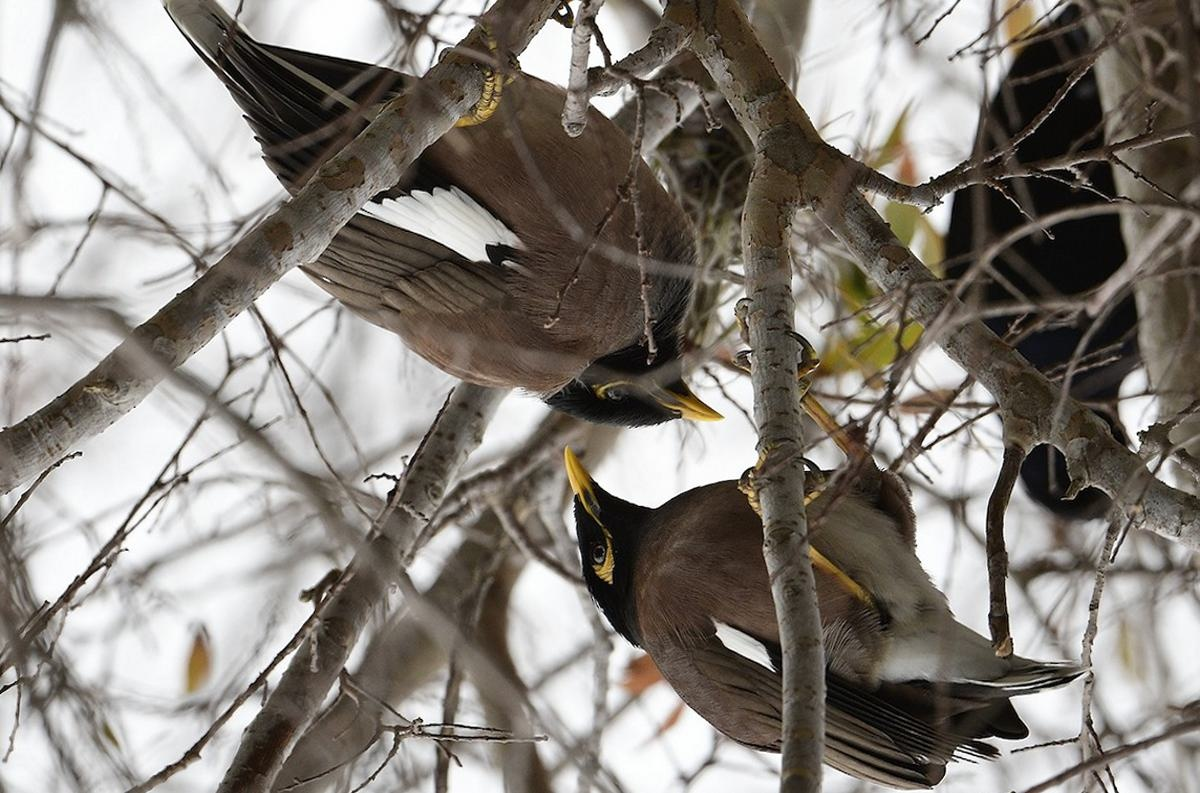myna: (548, 442, 981, 759)
